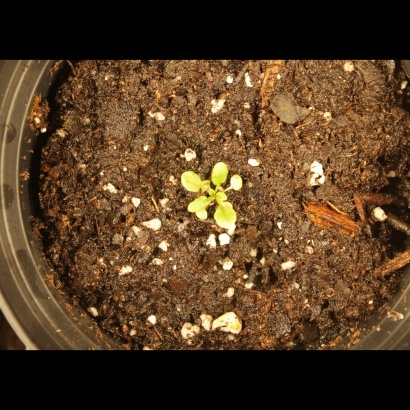leaf: (213, 204, 241, 234), (180, 170, 203, 193), (210, 163, 233, 186), (228, 169, 251, 192), (188, 193, 211, 216)
